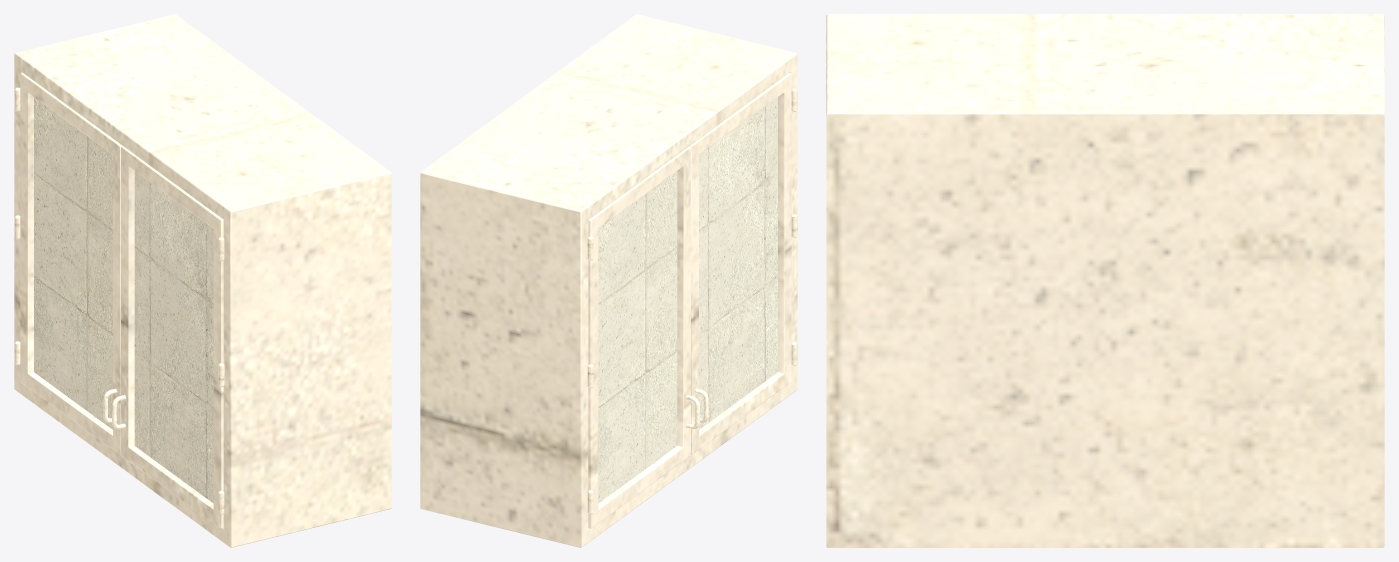
The model's file is SM_OPR_Cabinet_01_Full.fbx.
3 renders of one model, left to right at view 1: azimuth 30°, elevation 25°; view 2: azimuth 150°, elevation 25°; view 3: azimuth 270°, elevation 25°, orthographic. The views are drawn at different scales.
Visible parts, largest first — view 1: SM_OPR_Cabinet_01_Full_LOD0; view 2: SM_OPR_Cabinet_01_Full_LOD0; view 3: SM_OPR_Cabinet_01_Full_LOD0.
Part boxes in pixels (bbox=[...]): SM_OPR_Cabinet_01_Full_LOD0: bbox=[14, 14, 391, 547]; SM_OPR_Cabinet_01_Full_LOD0: bbox=[420, 14, 797, 547]; SM_OPR_Cabinet_01_Full_LOD0: bbox=[826, 14, 1384, 547].
Size of the model in its own units: 65.28 by 140 by 120.
2 materials, 2 textured.
